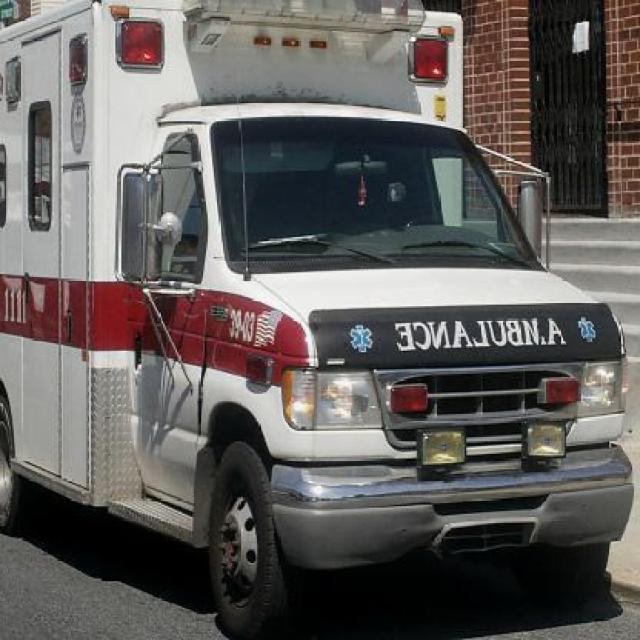Ambulance: (0, 17, 640, 564)
